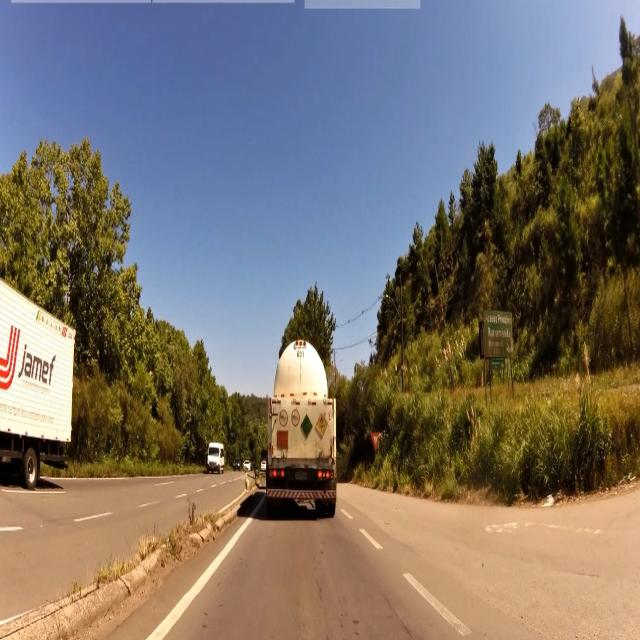R-2: (371, 431, 381, 453)
